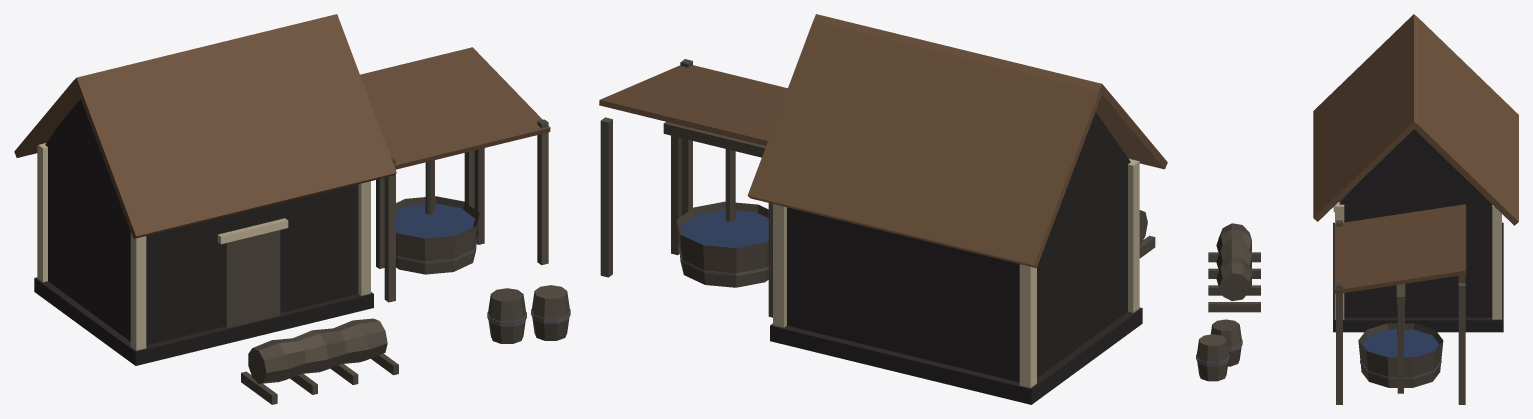
File: walk_ashen_winery.glb
3 views of the same model, side by side, from view 1: azimuth 30°, elevation 25°; view 2: azimuth 150°, elevation 25°; view 3: azimuth 270°, elevation 25° (orthographic). The views are drawn at different scales.
Parts seen in each view (by area): view 1: walk_ashen_winery, walk_ashen_winery_roof; view 2: walk_ashen_winery, walk_ashen_winery_roof; view 3: walk_ashen_winery_roof, walk_ashen_winery.
Part boxes in pixels (x1,y1,x2,y2): walk_ashen_winery: (34,99,570,404); walk_ashen_winery_roof: (14,14,550,238); walk_ashen_winery: (600,59,1155,404); walk_ashen_winery_roof: (599,14,1167,268); walk_ashen_winery_roof: (1313,14,1518,294); walk_ashen_winery: (1196,129,1503,404).
Size of what is drawn, in the model's own units: 9.5 by 5.45 by 7.38.
Materials: 2 (2 with a texture image).
